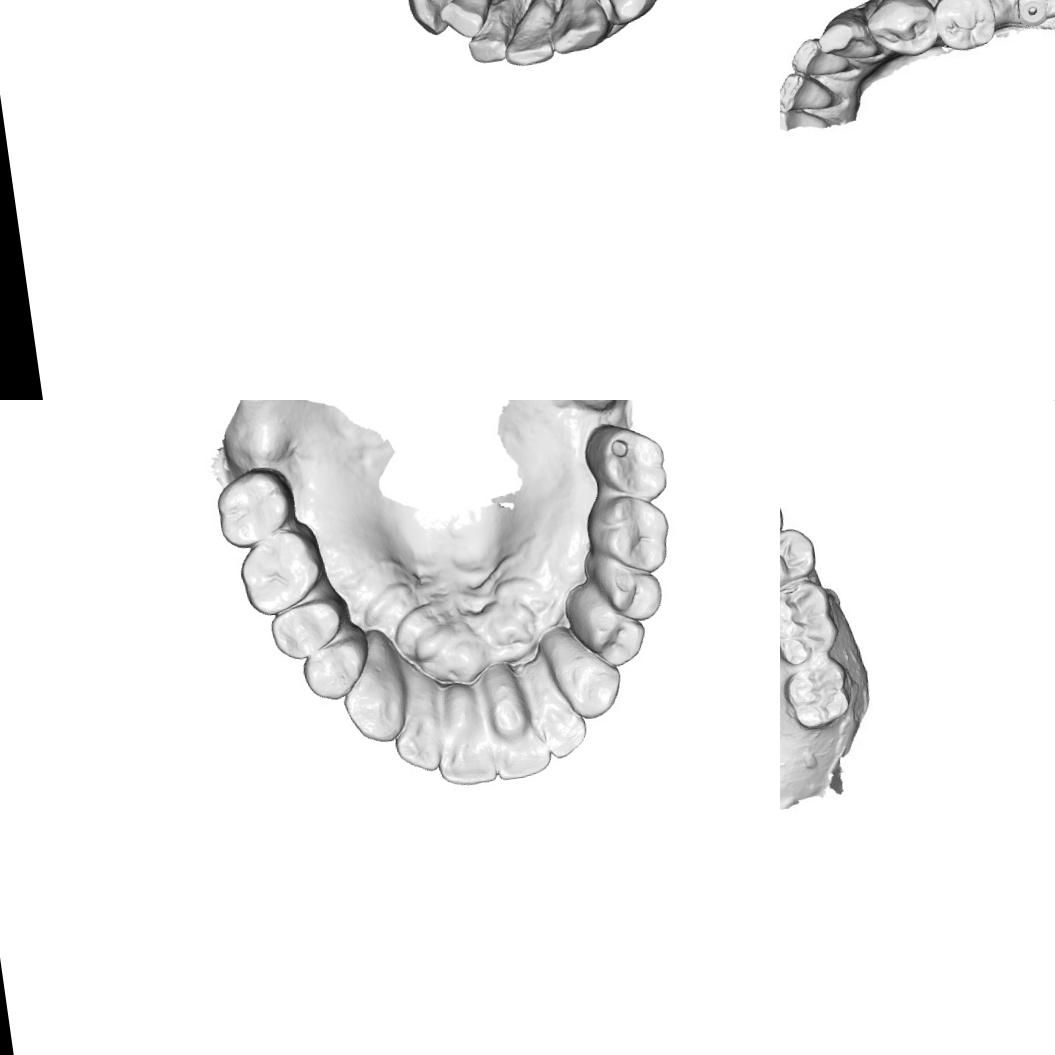canine: (333, 626, 412, 748), (549, 634, 627, 724), (541, 0, 611, 56), (815, 12, 878, 73), (403, 0, 472, 38)
implant: (1014, 0, 1055, 26)
incisor: (482, 662, 554, 782), (426, 678, 498, 791), (521, 655, 591, 762), (384, 660, 446, 776), (495, 0, 558, 69), (458, 3, 513, 68), (433, 0, 501, 43), (780, 69, 837, 119), (790, 34, 845, 78)
molar: (232, 518, 330, 620), (578, 415, 670, 511), (583, 491, 676, 581), (209, 462, 301, 552), (783, 657, 853, 730), (780, 585, 838, 664)
premolar: (563, 580, 650, 674), (581, 542, 664, 627), (296, 621, 376, 704), (265, 593, 353, 664), (866, 0, 940, 67), (928, 0, 1001, 56), (588, 0, 663, 31), (780, 528, 814, 590)
